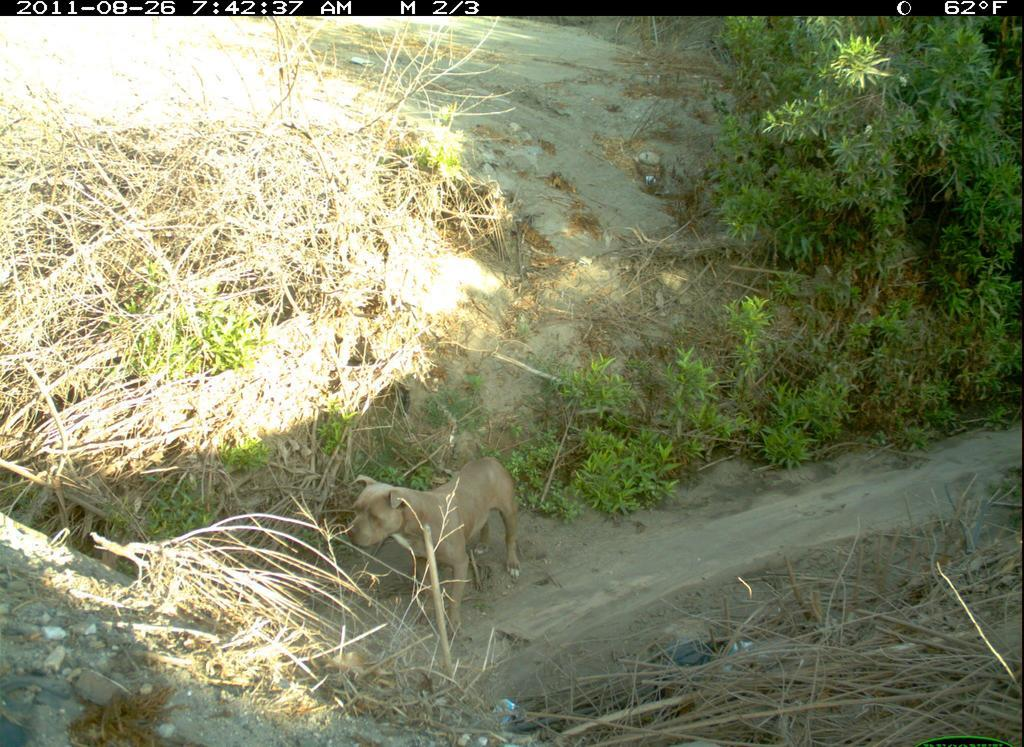dog: (341, 443, 550, 625)
